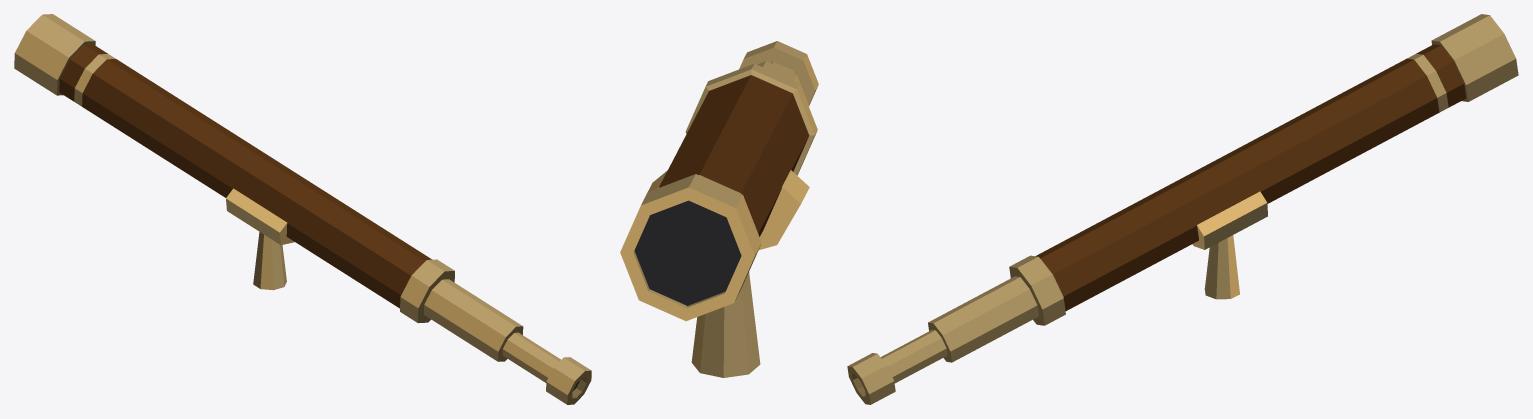
The model's file is Puzzle04_Telescope.glb.
3 renders of one model, left to right at view 1: azimuth 30°, elevation 25°; view 2: azimuth 150°, elevation 25°; view 3: azimuth 270°, elevation 25°, orthographic. The views are drawn at different scales.
Visible parts, largest first — view 1: Puzzle04_Telescope; view 2: Puzzle04_Telescope; view 3: Puzzle04_Telescope.
Part boxes in pixels (box(x1,y1,x2,y2)): Puzzle04_Telescope: box(14, 14, 591, 404); Puzzle04_Telescope: box(620, 41, 818, 377); Puzzle04_Telescope: box(847, 14, 1518, 404).
Size of the model in its own units: 1.2 by 0.9327 by 2.19.
1 material, 1 textured.
